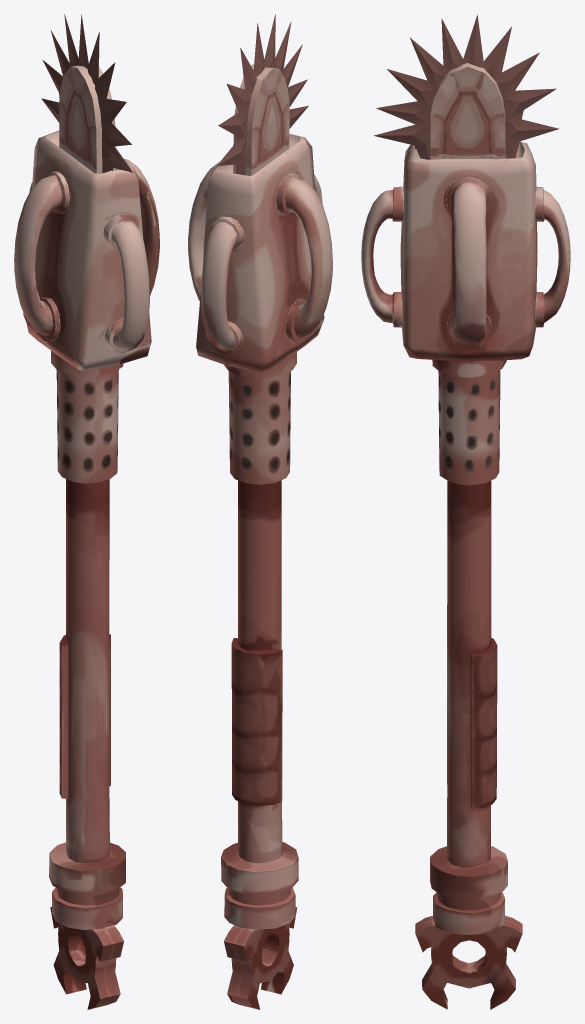
The model's file is weapon-muflus.fbx.
The picture shows the model from 3 angles, left to right: view 1: azimuth 30°, elevation 25°; view 2: azimuth 150°, elevation 25°; view 3: azimuth 270°, elevation 25°; orthographic projection.
Visible parts, largest first — view 1: PM3D_Cube3D1_8; view 2: PM3D_Cube3D1_8; view 3: PM3D_Cube3D1_8.
Part boxes in pixels (<box>): PM3D_Cube3D1_8: <box>14,14,159,1009</box>; PM3D_Cube3D1_8: <box>188,14,332,1009</box>; PM3D_Cube3D1_8: <box>361,14,570,1009</box>.
Bounding box in the file's own units: 29.88 × 22.71 × 156.
1 material, 1 textured.
